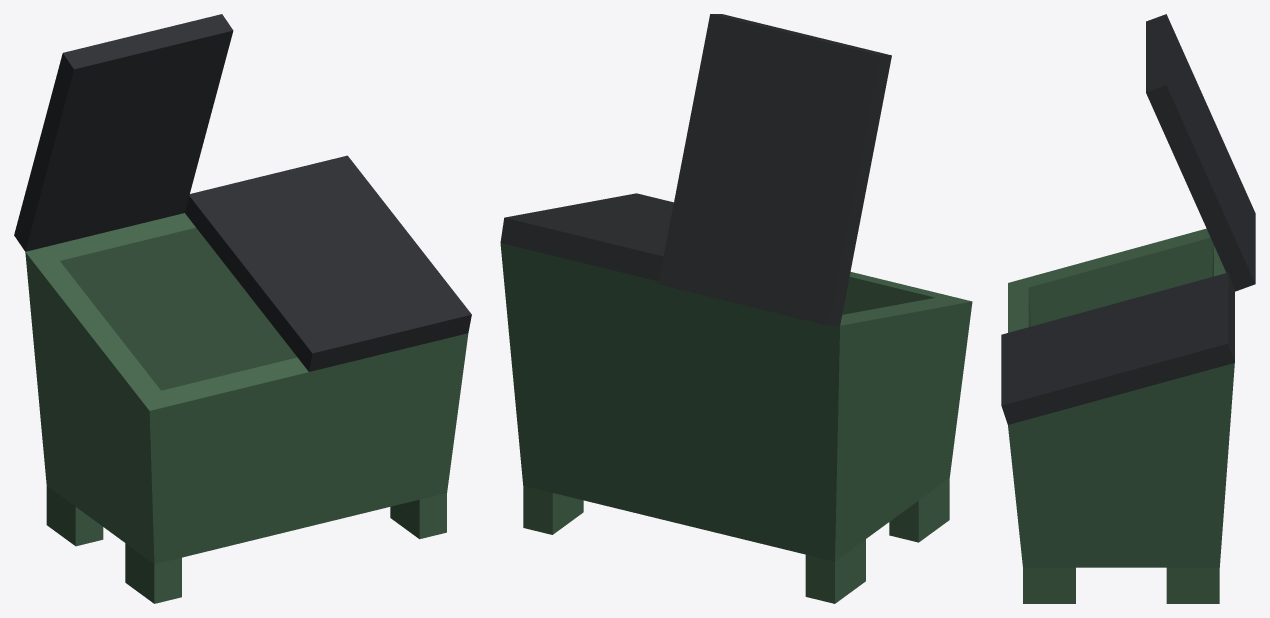
File: SM_Prop_Dumpster_Open_01.fbx
The picture shows the model from 3 angles, left to right: view 1: azimuth 30°, elevation 25°; view 2: azimuth 150°, elevation 25°; view 3: azimuth 270°, elevation 25°; orthographic projection. The views are drawn at different scales.
Parts seen in each view (by area): view 1: SM_Prop_Dumpster_Open_01; view 2: SM_Prop_Dumpster_Open_01; view 3: SM_Prop_Dumpster_Open_01.
Boxes of the visible parts, box(x1,y1,x2,y2) form: SM_Prop_Dumpster_Open_01: box(14, 14, 471, 603); SM_Prop_Dumpster_Open_01: box(500, 14, 972, 603); SM_Prop_Dumpster_Open_01: box(1001, 14, 1255, 603).
Bounding box in the file's own units: 60.12 × 89.5 × 45.43.
